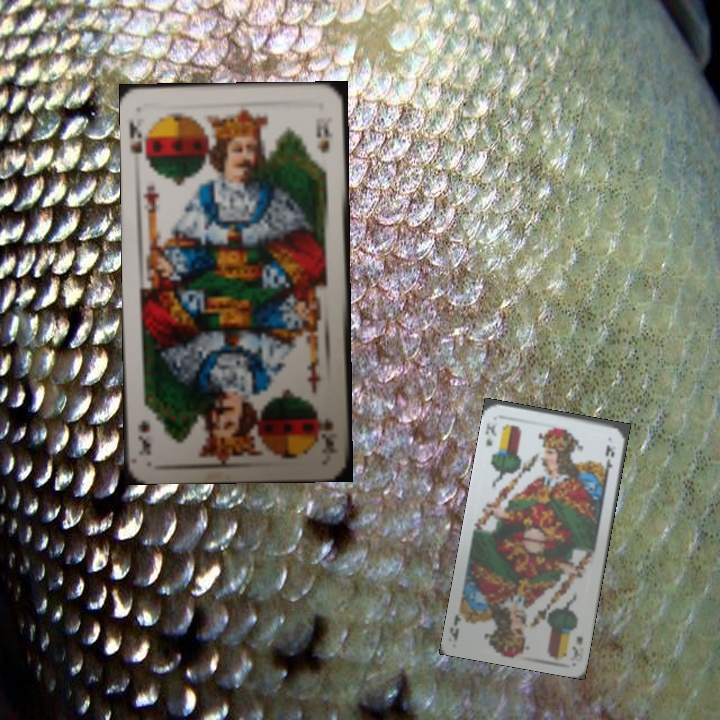EK: (481, 418, 500, 449), (568, 632, 585, 661)
SK: (126, 114, 154, 168), (316, 414, 337, 449)
